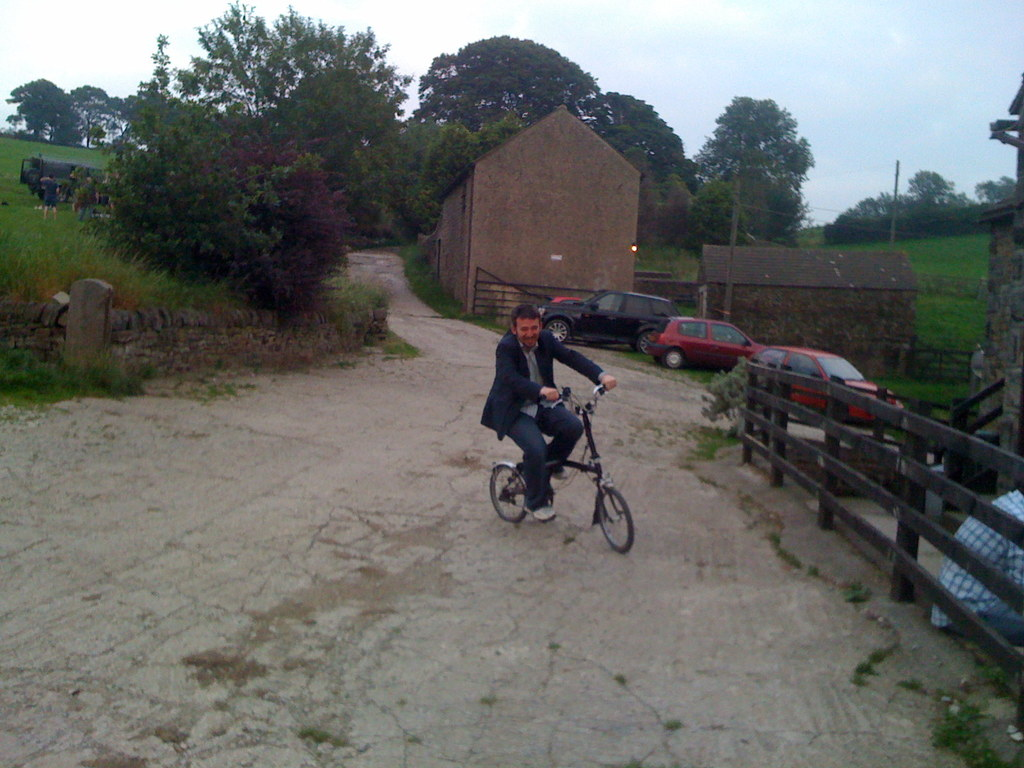Bike_toward: (490, 380, 647, 560)
